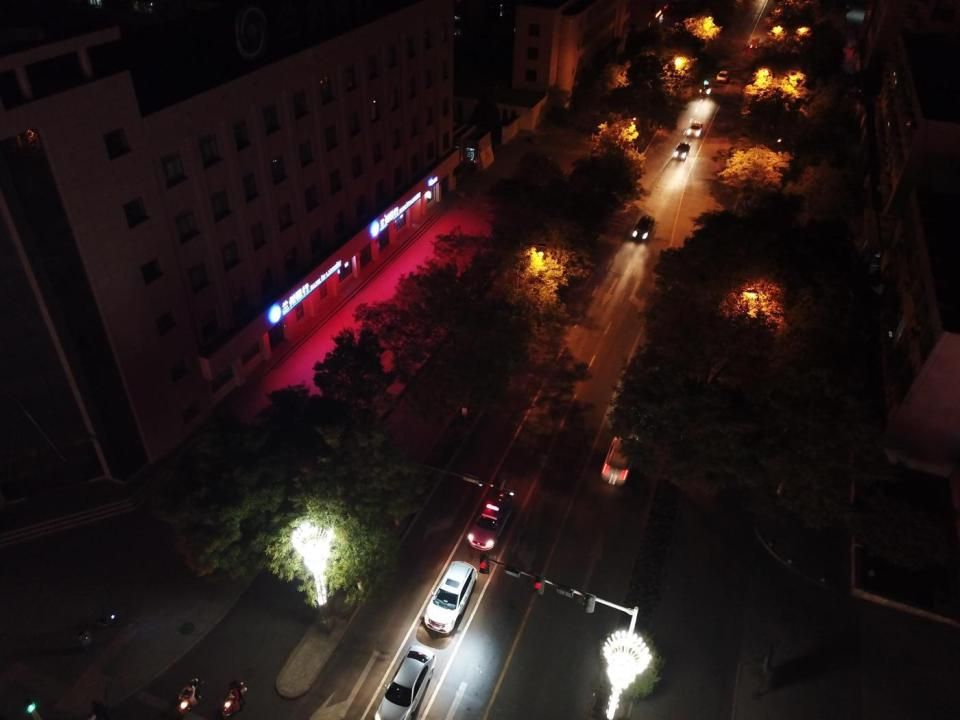car: (374, 644, 435, 720), (423, 560, 478, 635), (468, 486, 514, 551), (600, 415, 640, 487), (632, 216, 655, 240), (674, 141, 691, 160), (687, 122, 704, 138), (844, 90, 862, 99), (700, 80, 711, 94), (716, 70, 728, 82)
truck: (749, 36, 760, 48)
